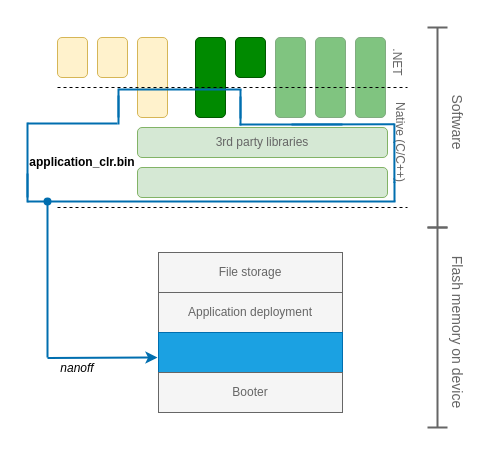
The diagram is 494 pixels wide and 454 high, and some of its shapes have lost their labels. The box of each missing label's shape, as (x1, y1, x2, y2) in pixels:
Device specific SDK: (136, 166, 388, 198)
nanoFramework CLR: (158, 332, 342, 372)
